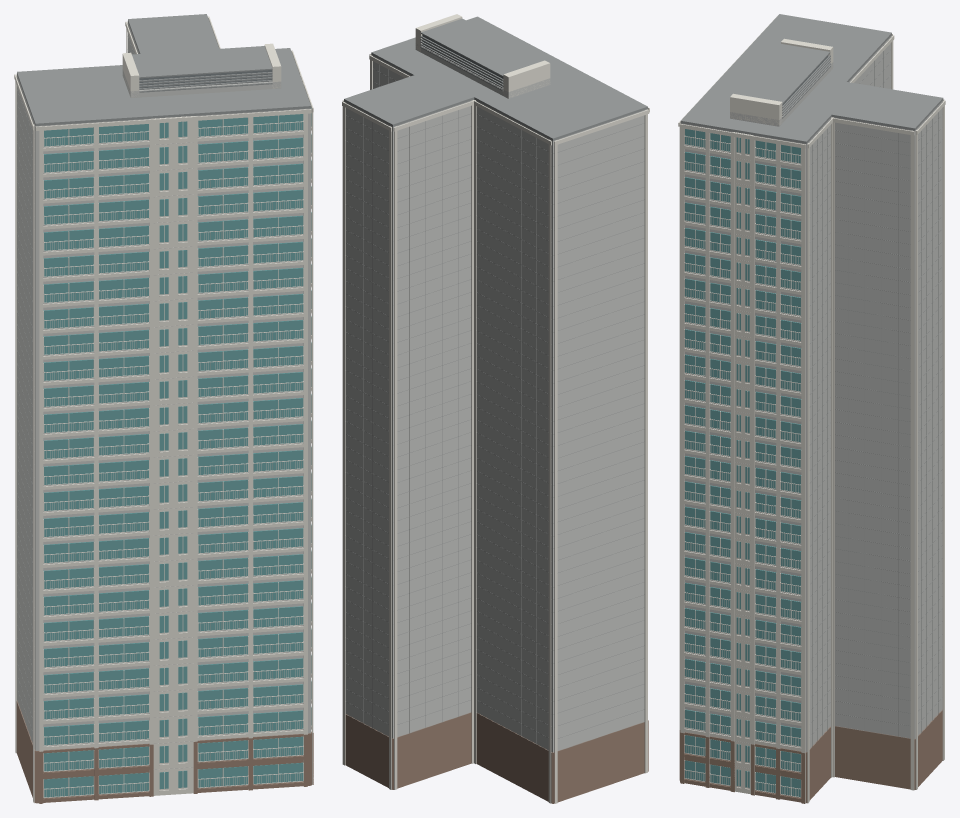
File: bespoke-jamsil-els-164.glb
The picture shows the model from 3 angles, left to right: view 1: azimuth 30°, elevation 25°; view 2: azimuth 150°, elevation 25°; view 3: azimuth 270°, elevation 25°; orthographic projection. The views are drawn at different scales.
Parts seen in each view (by area): view 1: Els164_editable_Els164_turquoise_balcony_glazing, Els164_white_exact_chunk_0, Els164_editable_Els164_light_grey_solid_wall, Els164_white_exact_chunk_1, Els164_editable_Els164_modest_grey_flat_roof_caps, Els164_editable_Els164_muted_ground_wall, Els164_white_exact_chunk_2, Els164_editable_Els164_narrow_charcoal_service_strips; view 2: Els164_editable_Els164_light_grey_solid_wall, Els164_editable_Els164_modest_grey_flat_roof_caps, Els164_editable_Els164_muted_ground_wall, Els164_white_exact_chunk_2, Els164_white_exact_chunk_0; view 3: Els164_editable_Els164_light_grey_solid_wall, Els164_white_exact_chunk_2, Els164_editable_Els164_turquoise_balcony_glazing, Els164_editable_Els164_modest_grey_flat_roof_caps, Els164_white_exact_chunk_1, Els164_editable_Els164_muted_ground_wall.
Part boxes in pixels (box(x1,y1,x2,y2)): Els164_editable_Els164_turquoise_balcony_glazing: box(43, 108, 311, 797); Els164_white_exact_chunk_0: box(14, 73, 248, 802); Els164_editable_Els164_light_grey_solid_wall: box(17, 22, 310, 769); Els164_white_exact_chunk_1: box(35, 109, 311, 786); Els164_editable_Els164_modest_grey_flat_roof_caps: box(17, 14, 310, 745); Els164_editable_Els164_muted_ground_wall: box(16, 700, 313, 803); Els164_white_exact_chunk_2: box(122, 16, 313, 784); Els164_editable_Els164_narrow_charcoal_service_strips: box(139, 70, 272, 88); Els164_editable_Els164_light_grey_solid_wall: box(344, 43, 647, 752); Els164_editable_Els164_modest_grey_flat_roof_caps: box(344, 16, 647, 750); Els164_editable_Els164_muted_ground_wall: box(345, 712, 648, 803); Els164_white_exact_chunk_2: box(342, 14, 550, 789); Els164_white_exact_chunk_0: box(472, 100, 649, 803); Els164_editable_Els164_light_grey_solid_wall: box(680, 35, 943, 768); Els164_white_exact_chunk_2: box(679, 38, 945, 803); Els164_editable_Els164_turquoise_balcony_glazing: box(685, 129, 801, 796); Els164_editable_Els164_modest_grey_flat_roof_caps: box(680, 14, 943, 748); Els164_white_exact_chunk_1: box(678, 16, 777, 794); Els164_editable_Els164_muted_ground_wall: box(679, 709, 942, 803).
Bounding box in the file's own units: 28.94 × 71.15 × 25.22.
